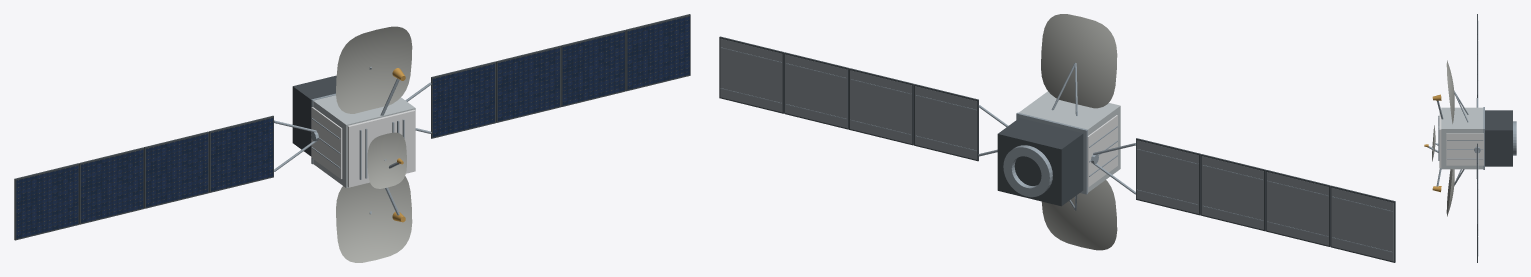
File: geostar-two-side-and-deck.glb
The picture shows the model from 3 angles, left to right: view 1: azimuth 30°, elevation 25°; view 2: azimuth 150°, elevation 25°; view 3: azimuth 270°, elevation 25°; orthographic projection. The views are drawn at different scales.
Visible parts, largest first — view 1: Solar cell panel (×8), Communications reflector (×2), Solar panel frame (×8), Earth-facing deck, Payload module, Deck-mounted reflector, Service module, Radiator face; view 2: Rear array substrate (×8), Communications reflector (×2), Service module, Solar panel frame (×8), Payload module, Launch adapter ring, Radiator face, Module interface; view 3: Service module, Payload module, Radiator face, Communications reflector (×2), Earth-facing deck, Launch adapter ring, Module interface, Deck-mounted reflector, Radiator seam.
Boxes of the visible parts, left/top/right/bottom form: Solar cell panel (×8): left=16, top=16, right=689, bottom=238; Communications reflector (×2): left=336, top=26, right=412, bottom=262; Solar panel frame (×8): left=14, top=14, right=690, bottom=240; Earth-facing deck: left=347, top=109, right=415, bottom=187; Payload module: left=313, top=95, right=415, bottom=187; Deck-mounted reflector: left=367, top=132, right=406, bottom=188; Service module: left=292, top=75, right=336, bottom=156; Radiator face: left=311, top=107, right=342, bottom=178; Rear array substrate (×8): left=720, top=38, right=1393, bottom=261; Communications reflector (×2): left=1041, top=14, right=1117, bottom=250; Service module: left=997, top=118, right=1083, bottom=206; Solar panel frame (×8): left=719, top=36, right=1395, bottom=262; Payload module: left=1019, top=91, right=1120, bottom=192; Launch adapter ring: left=1003, top=145, right=1052, bottom=197; Radiator face: left=1087, top=115, right=1117, bottom=187; Module interface: left=1016, top=112, right=1087, bottom=194; Service module: left=1485, top=110, right=1512, bottom=166; Payload module: left=1441, top=107, right=1483, bottom=169; Radiator face: left=1446, top=133, right=1483, bottom=165; Communications reflector (×2): left=1446, top=60, right=1454, bottom=216; Earth-facing deck: left=1439, top=109, right=1441, bottom=168; Launch adapter ring: left=1513, top=121, right=1516, bottom=155; Module interface: left=1483, top=107, right=1484, bottom=169; Deck-mounted reflector: left=1432, top=125, right=1435, bottom=161; Radiator seam: left=1447, top=158, right=1482, bottom=159.
Size of the model in its own units: 22.38 by 7.29 by 4.17.
8 materials, 1 textured.
